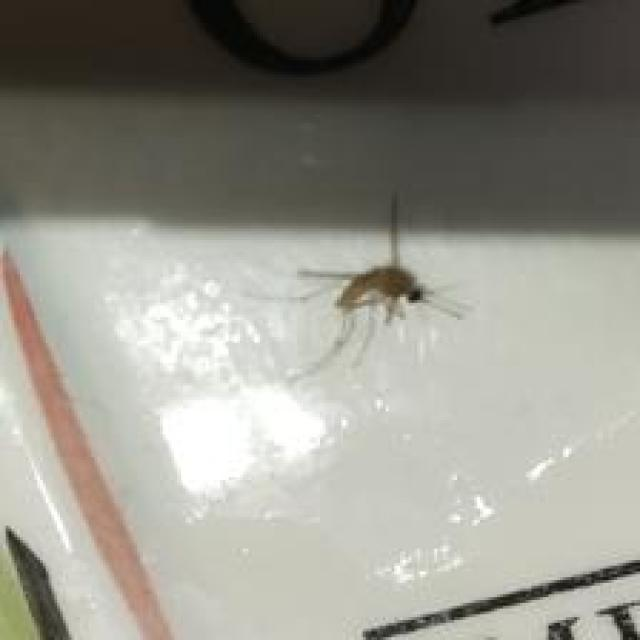Culex: (243, 190, 474, 384)
